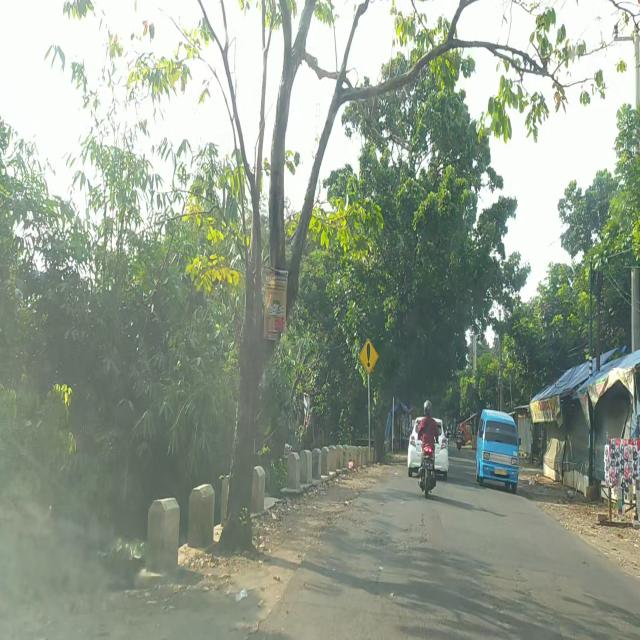Drain Hole: (347, 516, 430, 568)
